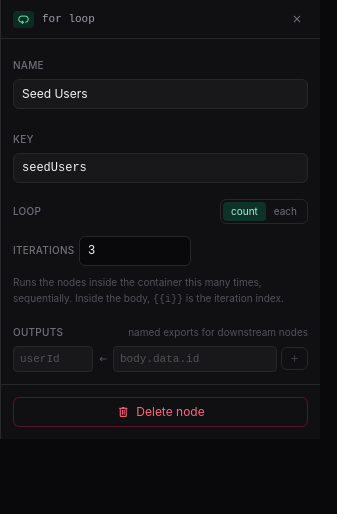
For inspector › mode toggle switches to each and shows the source picker
This screenshot has width=337, height=514.
Click the button "each": (285, 212) left=266, top=202, right=305, bottom=221
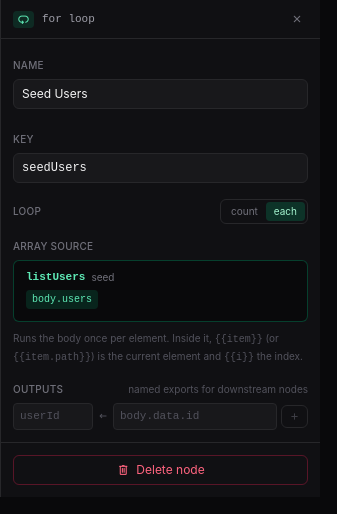
Now the element with test id "for-source-picker" is shown, box left=13, top=260, right=308, bottom=322
